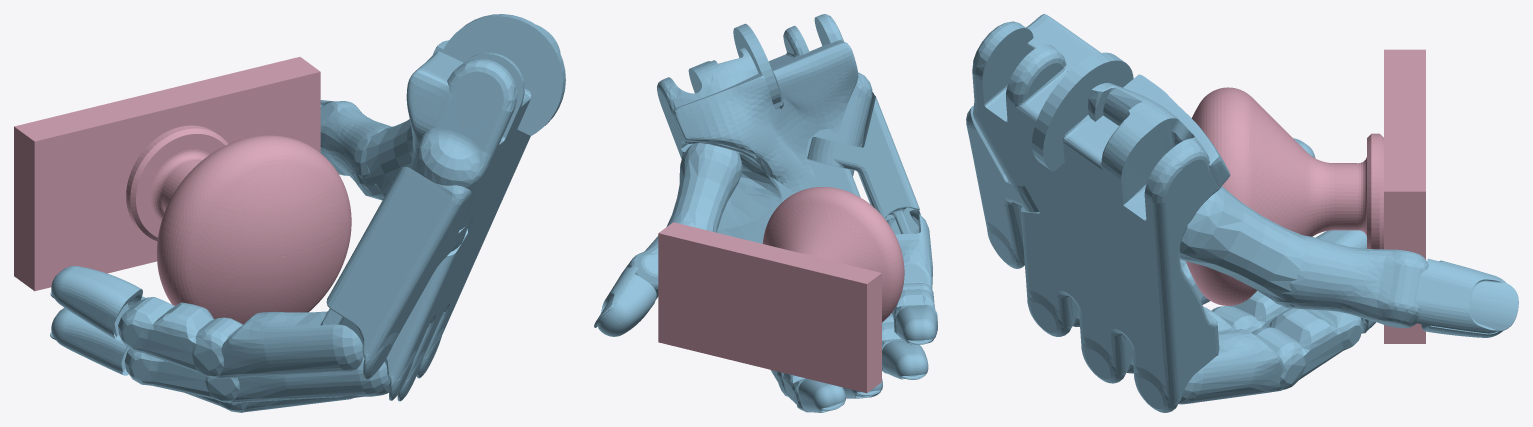
3 views of the same model, side by side, from view 1: azimuth 30°, elevation 25°; view 2: azimuth 150°, elevation 25°; view 3: azimuth 270°, elevation 25° (orthographic). The views are drawn at different scales.
Visible parts, largest first — view 1: world; view 2: world; view 3: world.
Part boxes in pixels (<box>): world: <box>14,14,565,412</box>; world: <box>594,14,937,412</box>; world: <box>966,14,1518,412</box>.
Bounding box in the file's own units: 0.1544 × 0.134 × 0.1644.
